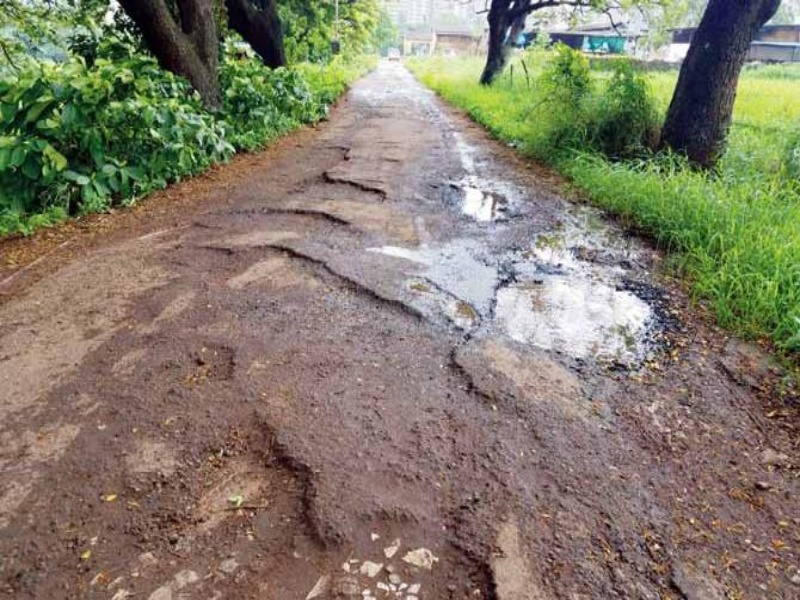pothole: (483, 240, 665, 377), (449, 173, 513, 234)
